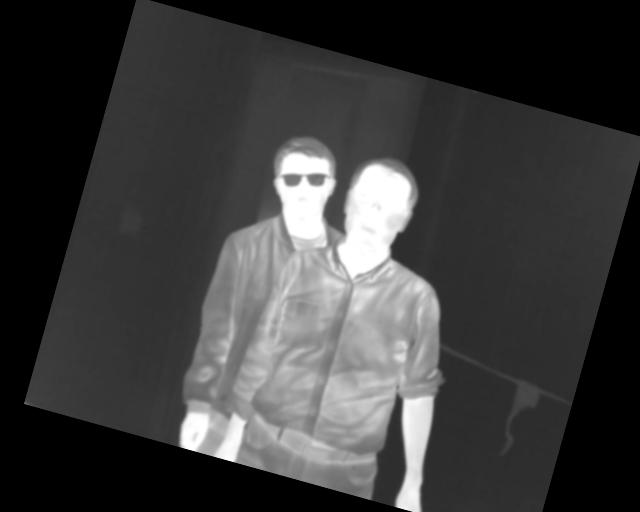face: (330, 147, 427, 261), (261, 128, 347, 226)
